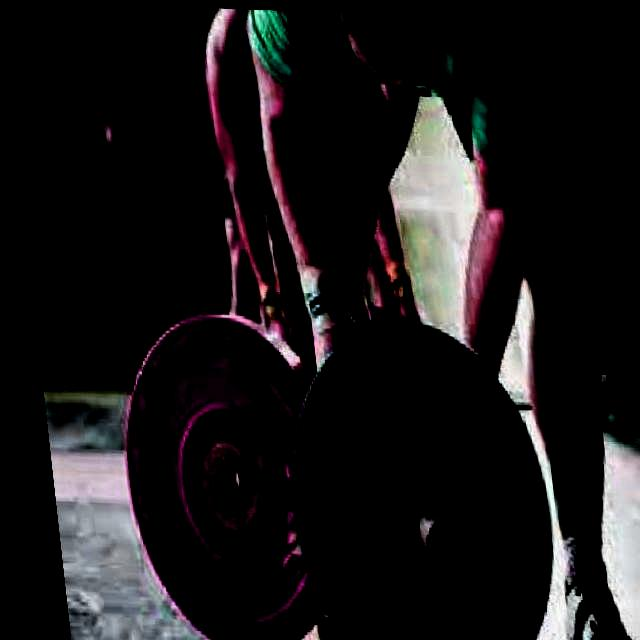barbell: (258, 307, 555, 640)
